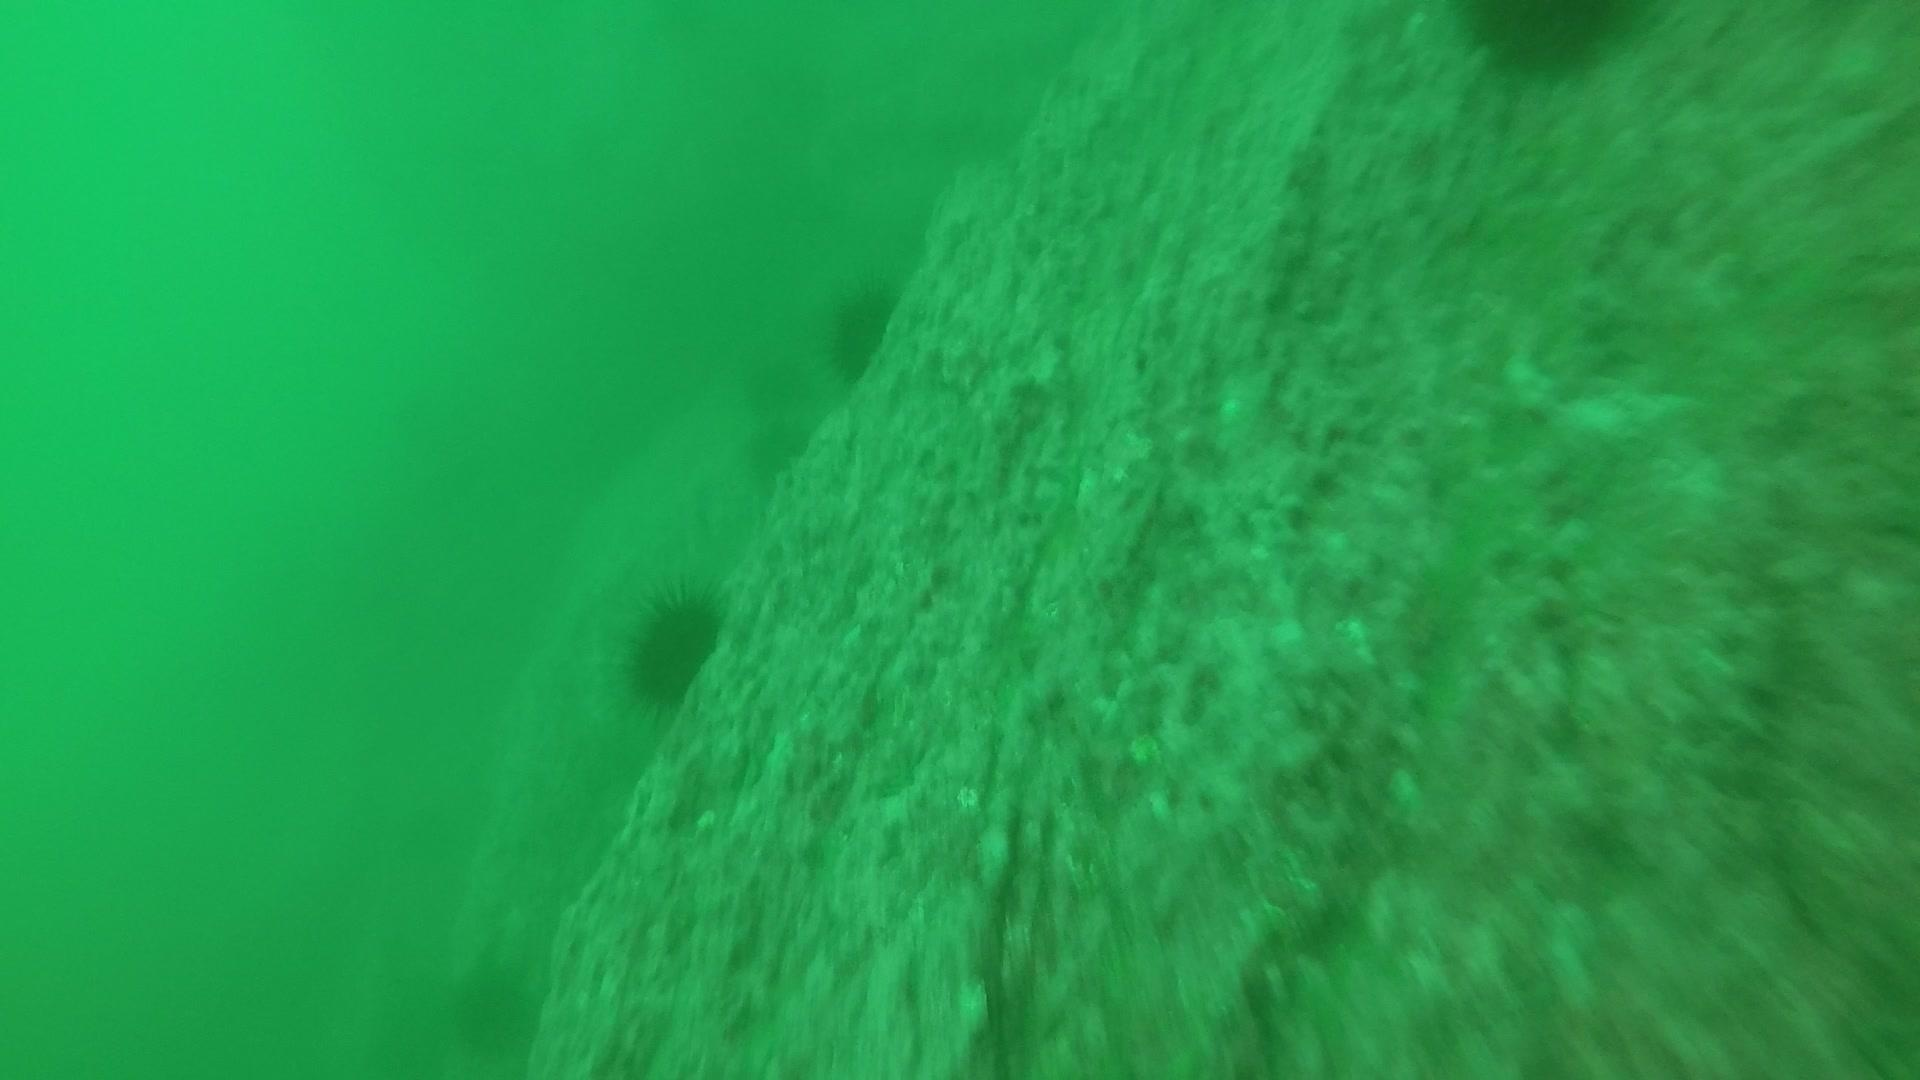echinus: (1448, 3, 1659, 84), (615, 578, 731, 715), (819, 274, 906, 389), (738, 410, 816, 483)
